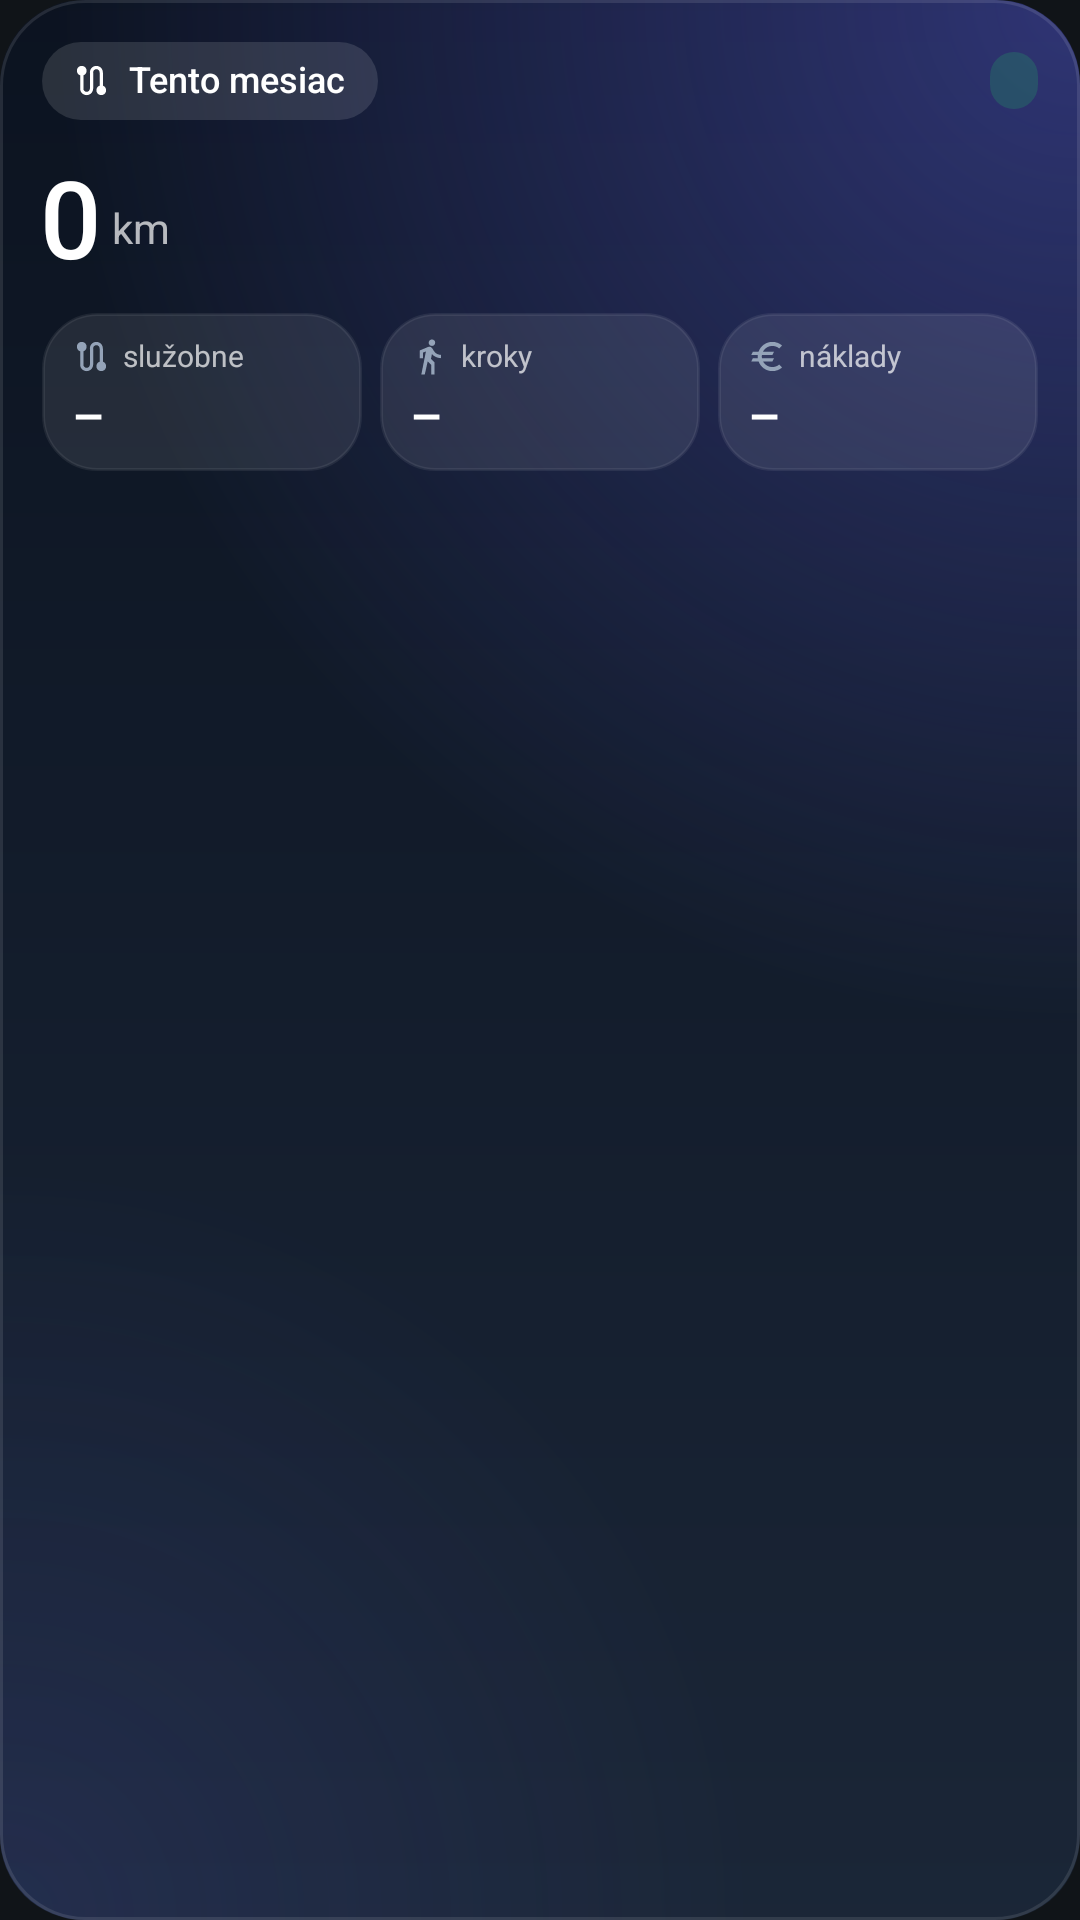

Icons on this 1080×1920 Android screen, each with the point to tap as [x,y]:
euro: [766,356]
route: [91,80], [91,356]
walk: [430,357]
